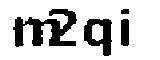2: (47, 7, 78, 50)
i: (119, 7, 132, 50)
m: (8, 18, 61, 50)
q: (81, 18, 114, 60)
